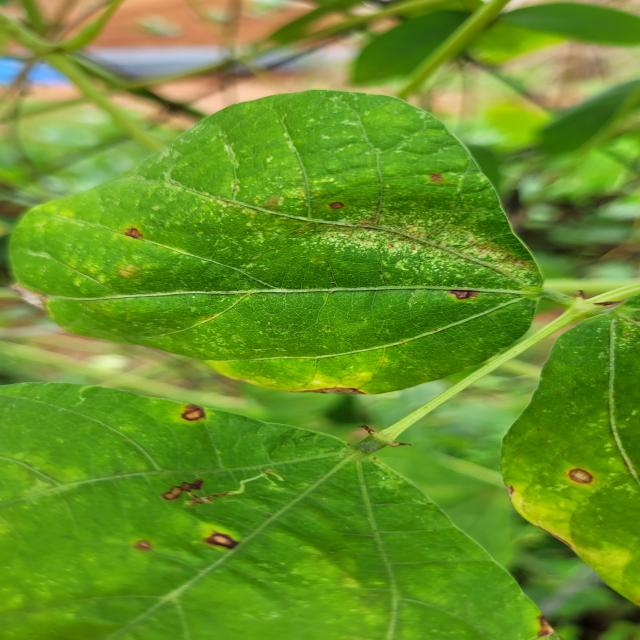Dolicos bean_cercospora leaf spot: (12, 89, 546, 393), (0, 379, 534, 640)
